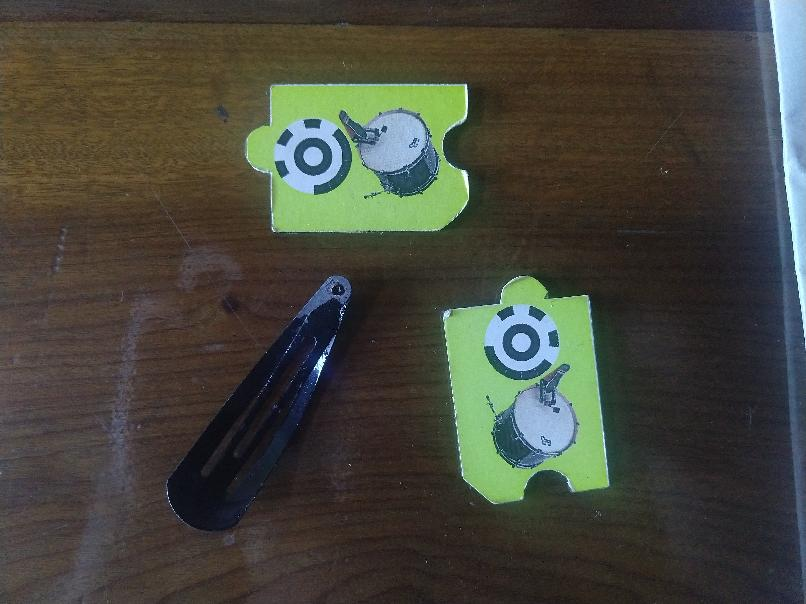bumbo: (444, 274, 614, 503), (244, 81, 470, 235)
